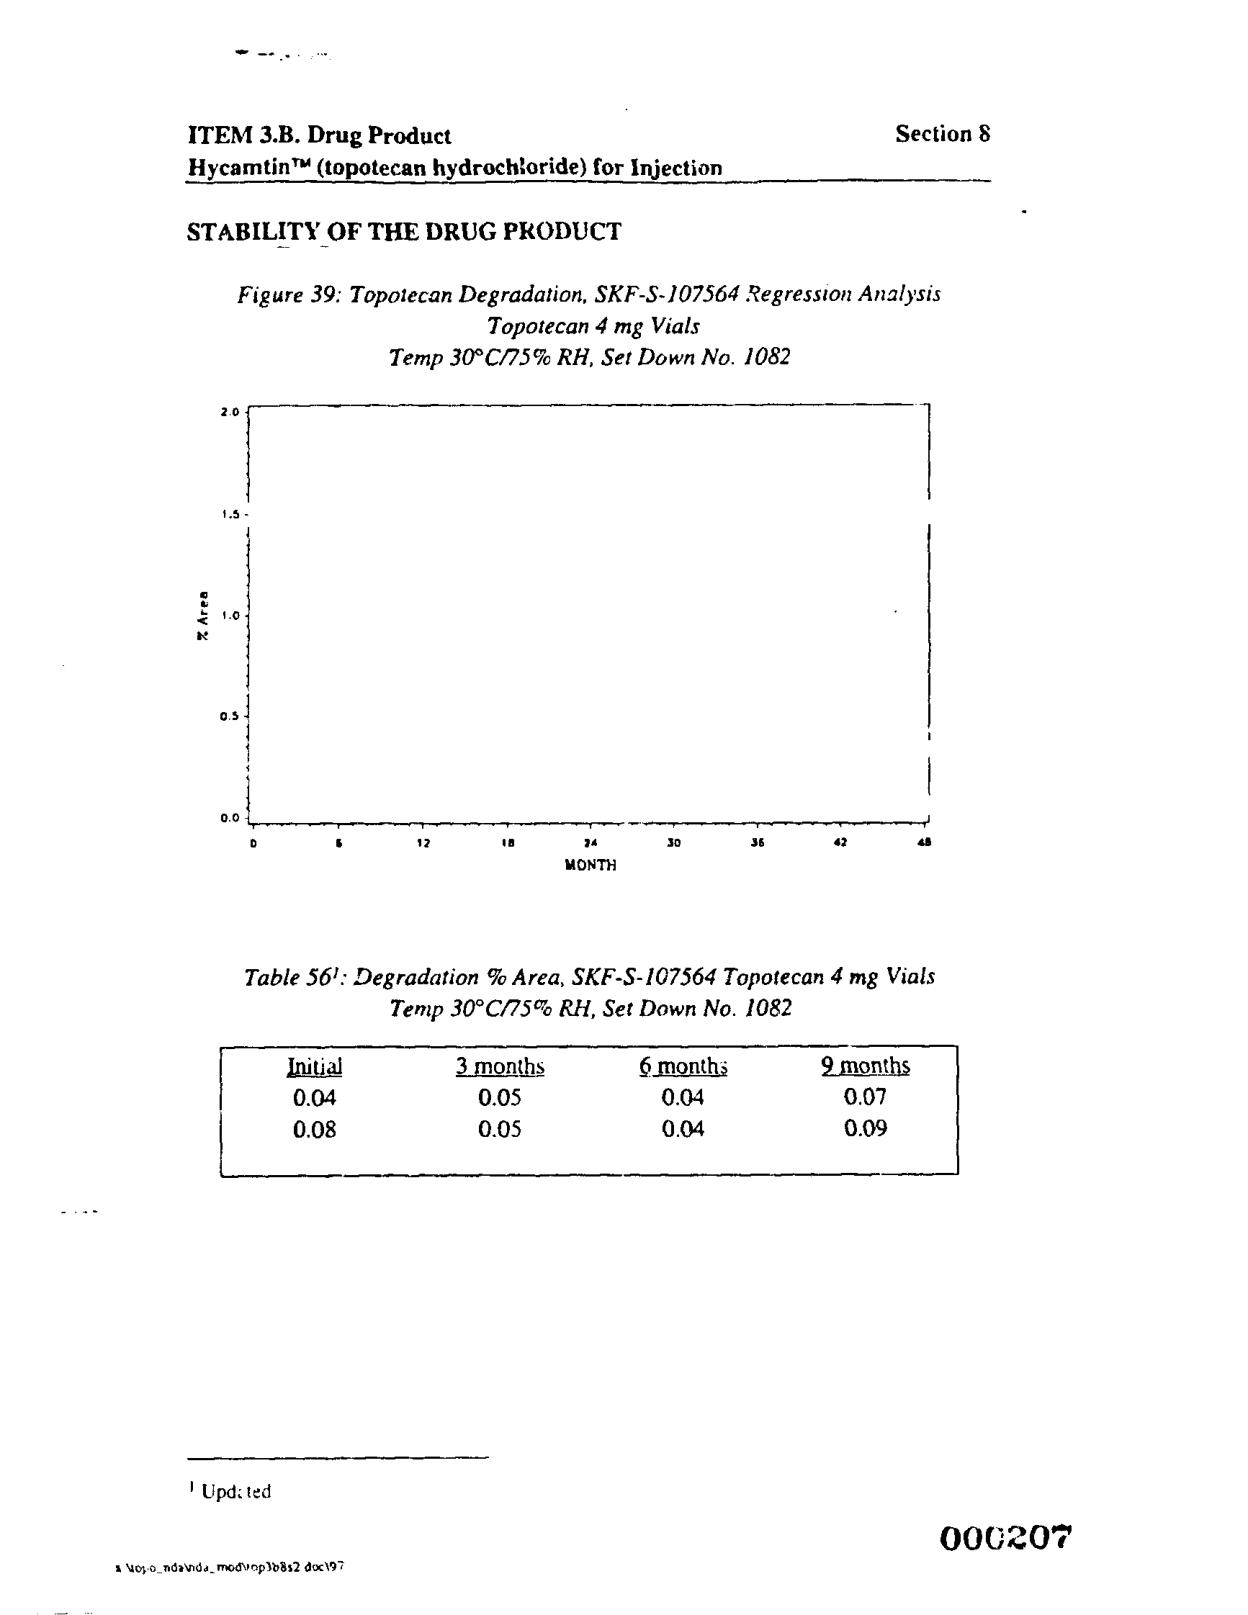partial_lined: (218, 1043, 961, 1182)
